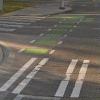crosswalk: (0, 58, 89, 98), (0, 16, 46, 32)
